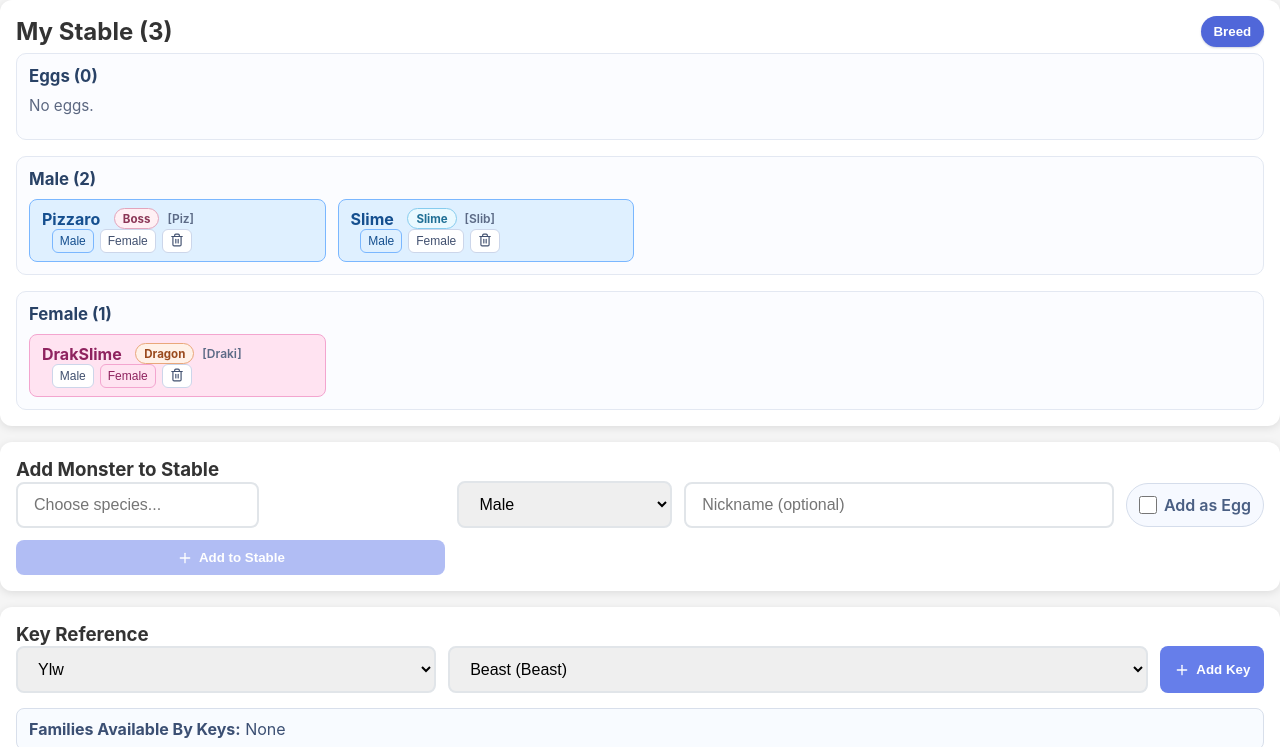
MonsterList key family highlighting › opens breed flow, filters mates to opposite gender, and previews result
Click the button "Breed" at [1232, 32], box x1=1201 y1=16 x2=1264 y2=47
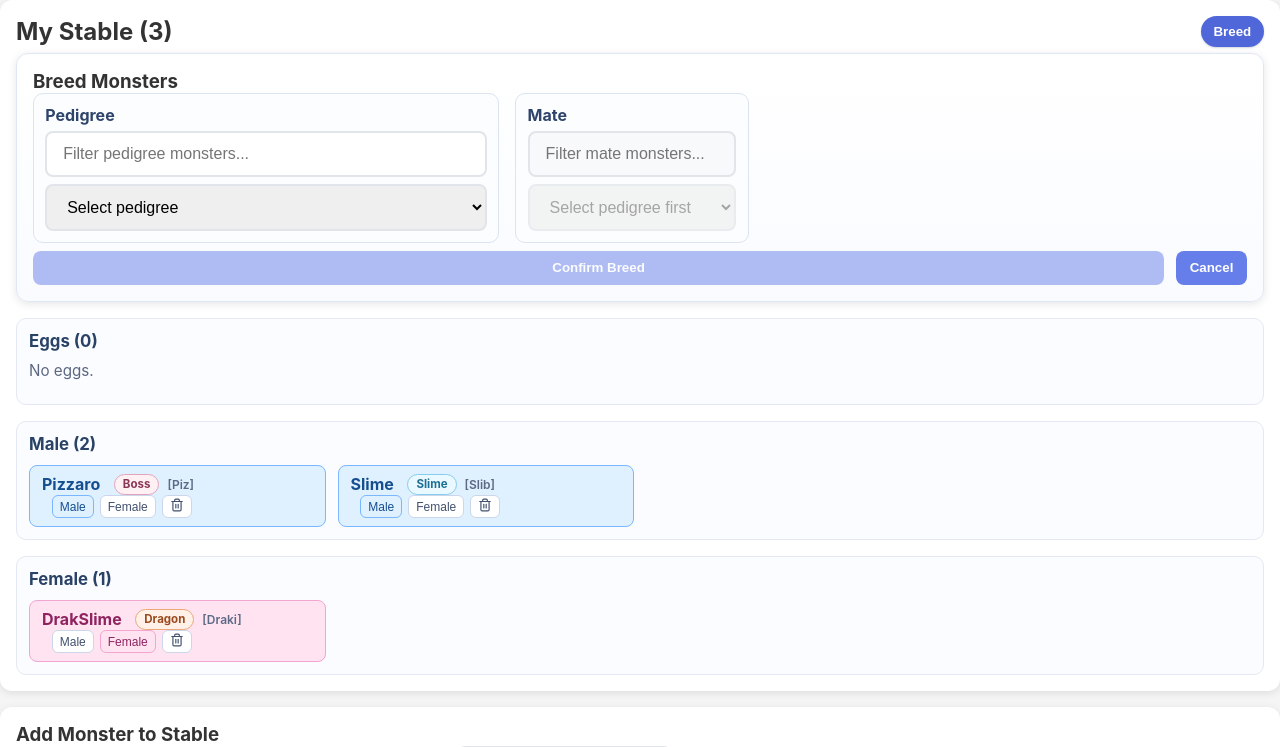
Select "Slime [Slib] (Male)" in the dropdown labelled "Pedigree" at [266, 207], box x1=45 y1=184 x2=487 y2=231
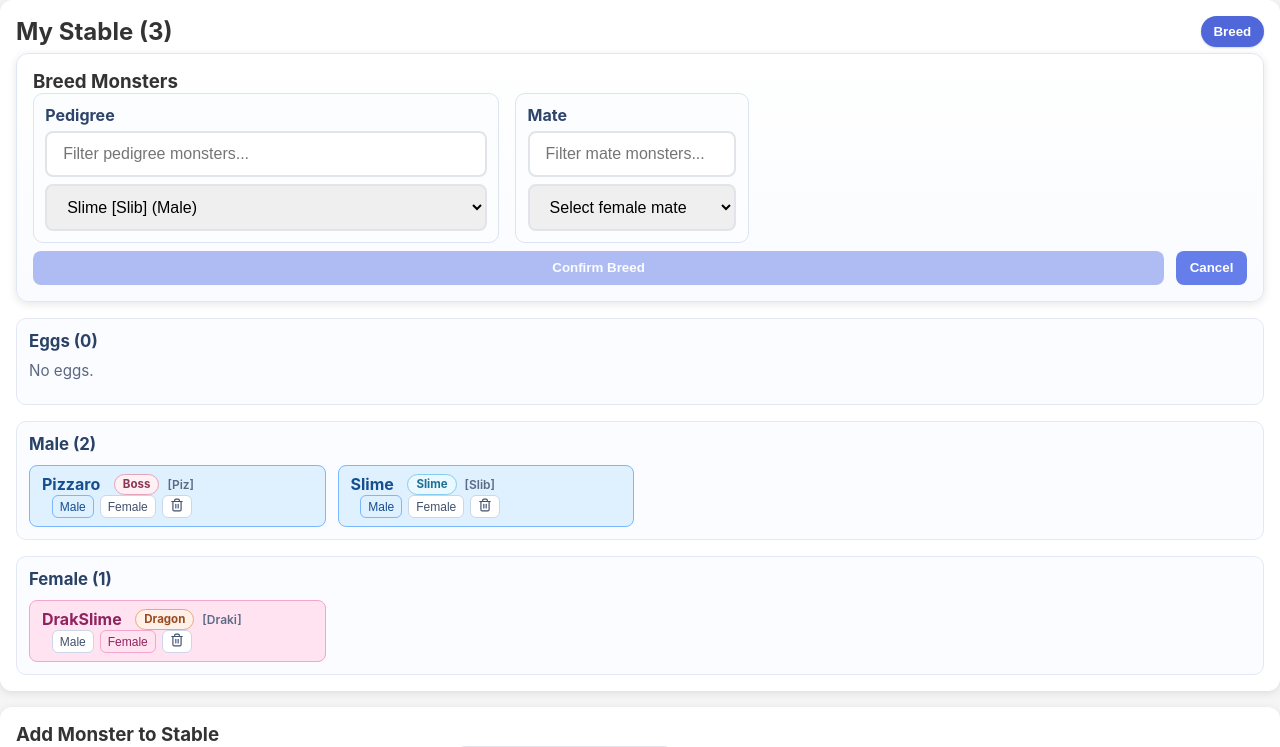
Select "DrakSlime [Draki] (Female)" in the dropdown labelled "Mate" at [632, 207], box x1=528 y1=184 x2=736 y2=231
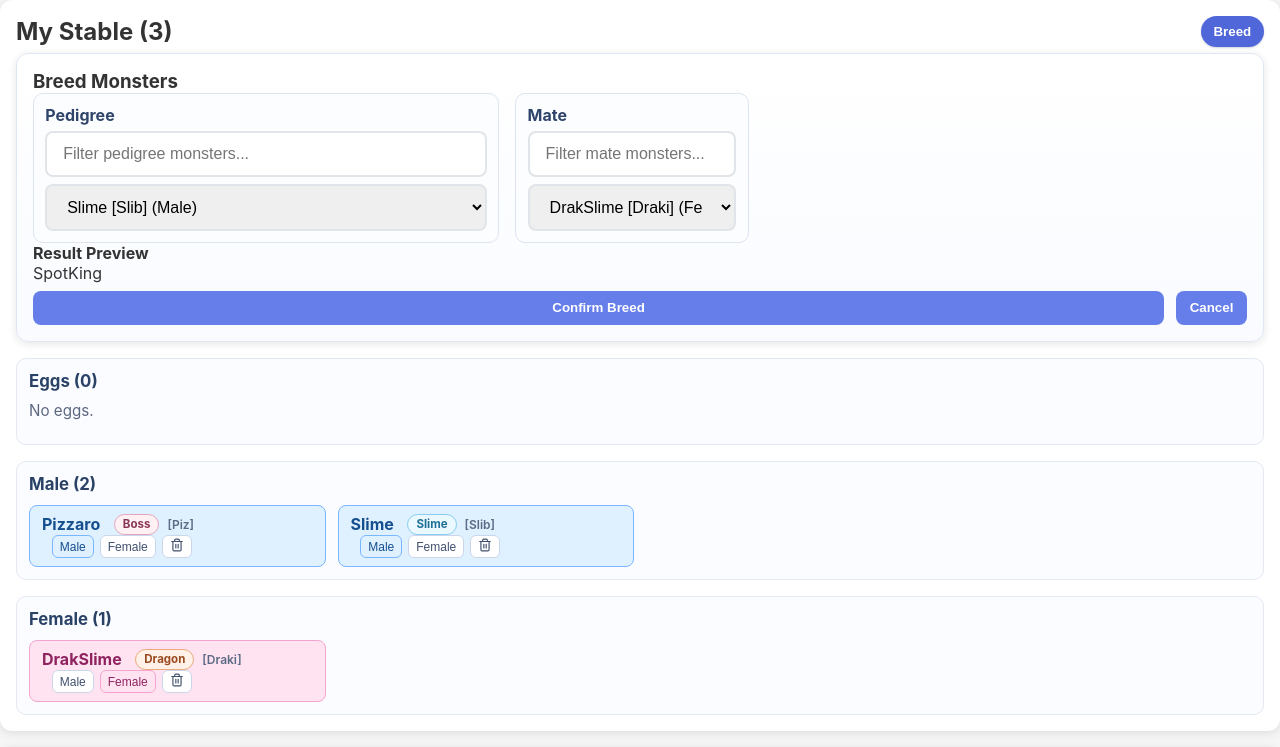
Now the heading "Result Preview" is shown, box x1=33 y1=243 x2=149 y2=263
Now the text "SpotKing" is shown, box x1=33 y1=263 x2=102 y2=283
